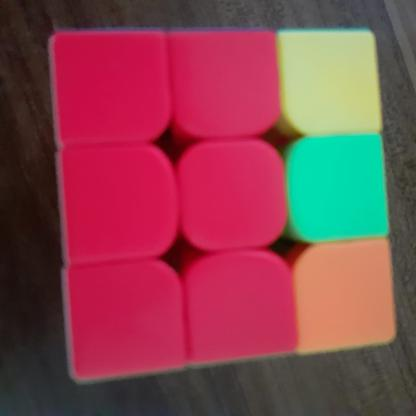cube: (43, 22, 399, 386)
